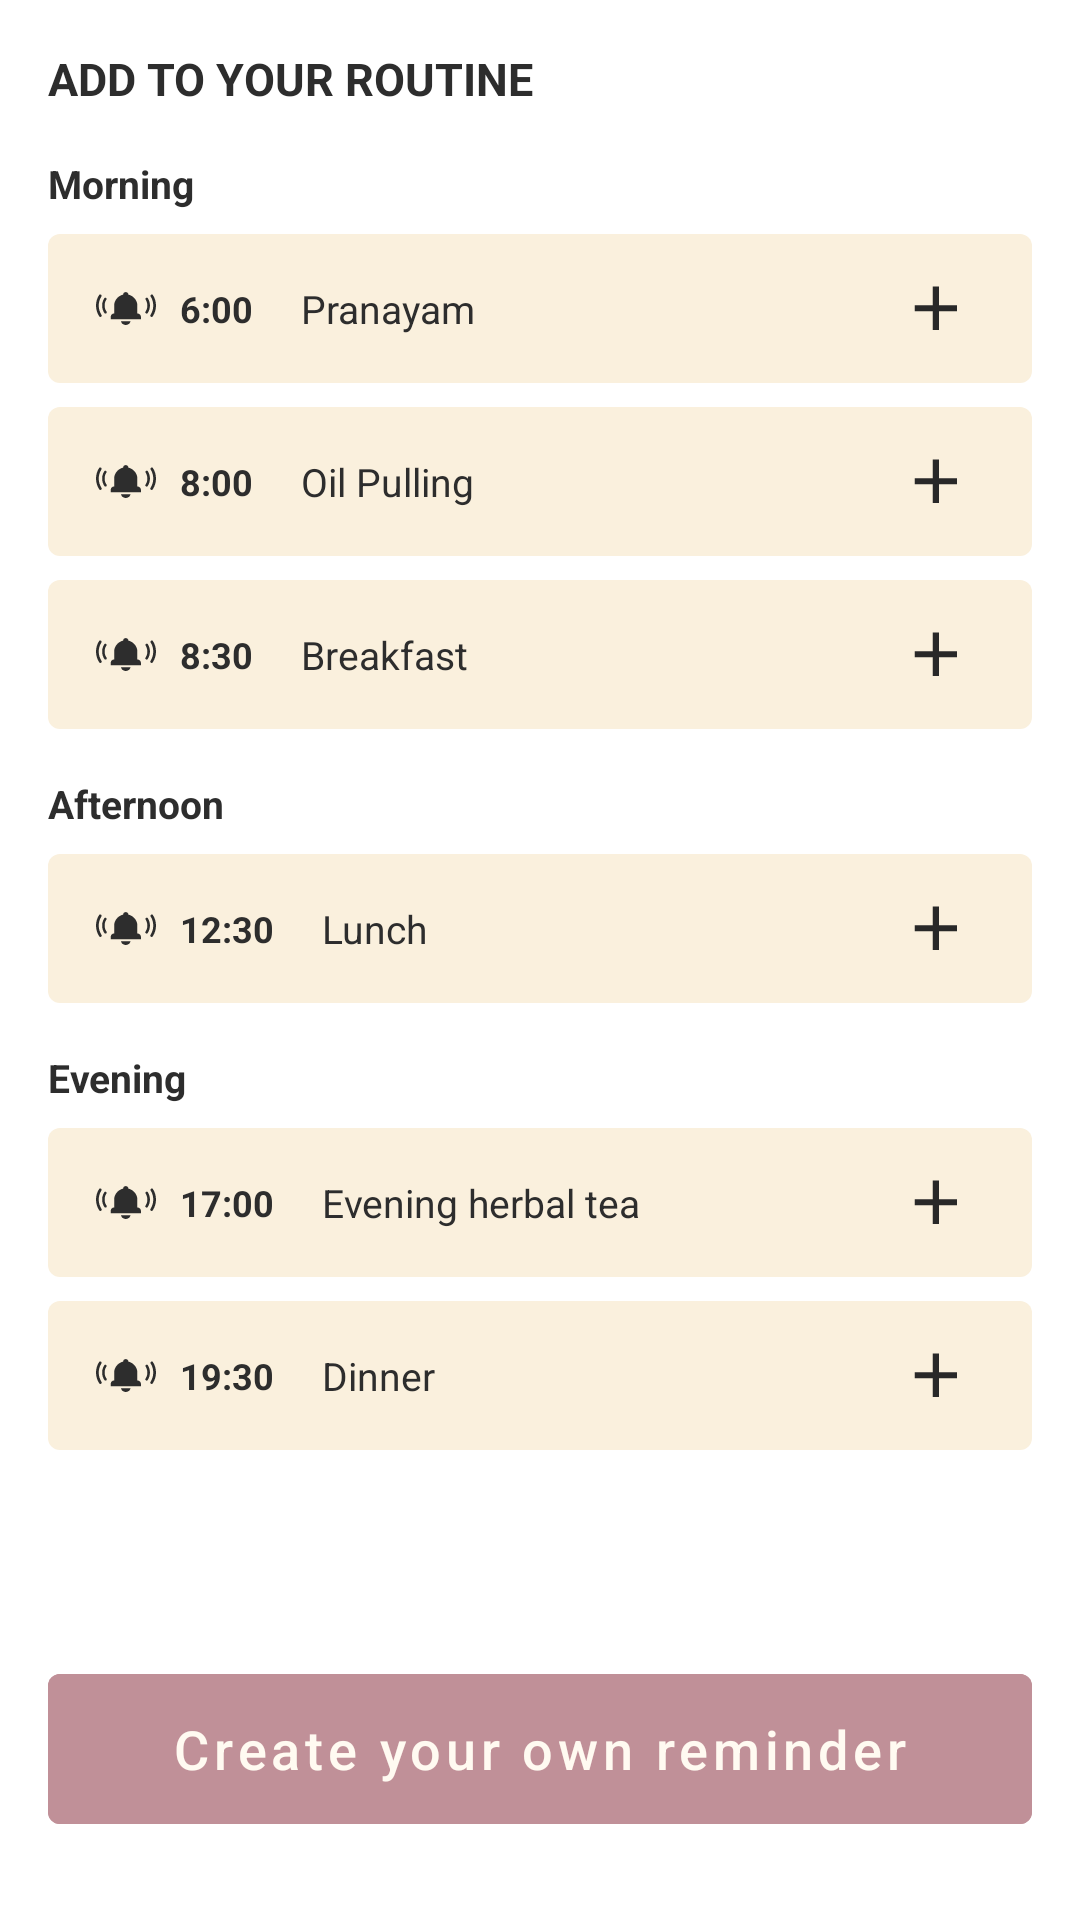

Named icons in this screenshot (1080px×1920px) and their centers, point (x, y):
add: point (935, 308), point (935, 481), point (935, 654), point (935, 928), point (935, 1202), point (935, 1375)
alarm: point (126, 308), point (126, 481), point (126, 654), point (126, 928), point (126, 1202), point (126, 1375)
